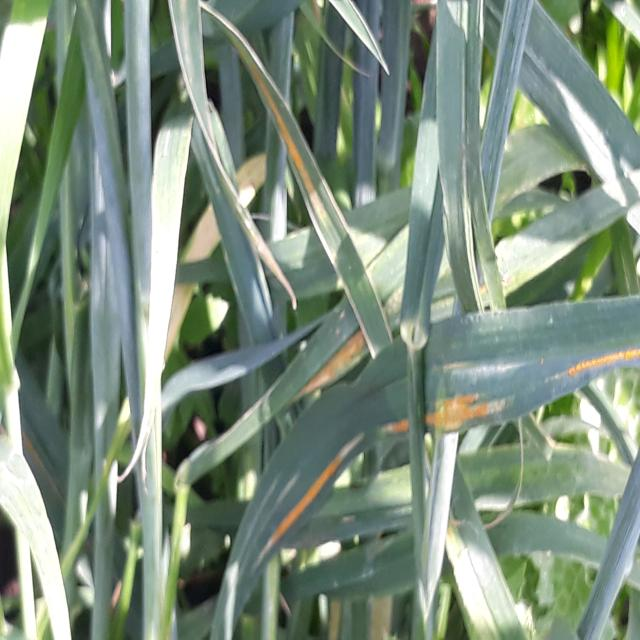yellow_rust: (224, 15, 337, 244), (254, 441, 368, 572), (378, 346, 528, 444), (273, 312, 387, 416), (561, 326, 640, 404), (18, 433, 75, 515)
